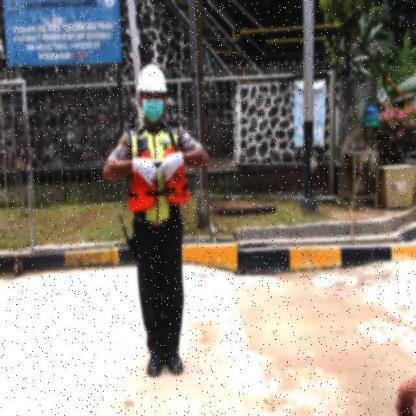boots: (164, 352, 185, 374), (146, 353, 164, 378)
gloves: (158, 152, 184, 182), (132, 156, 158, 186)
helmet: (135, 62, 169, 93)
mask: (142, 98, 165, 122)
vest: (127, 145, 191, 214)
